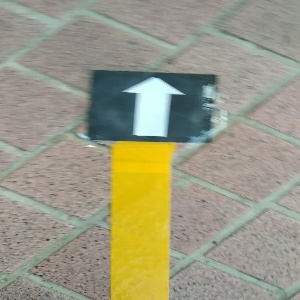straight: (88, 69, 217, 142)
